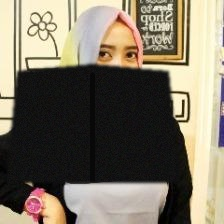Cadar_Niqab: (6, 6, 179, 182)
